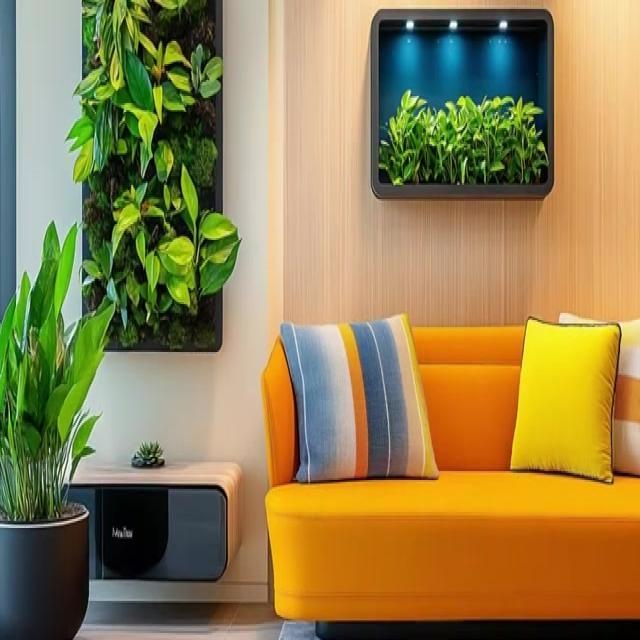obstacle: (260, 314, 639, 636)
